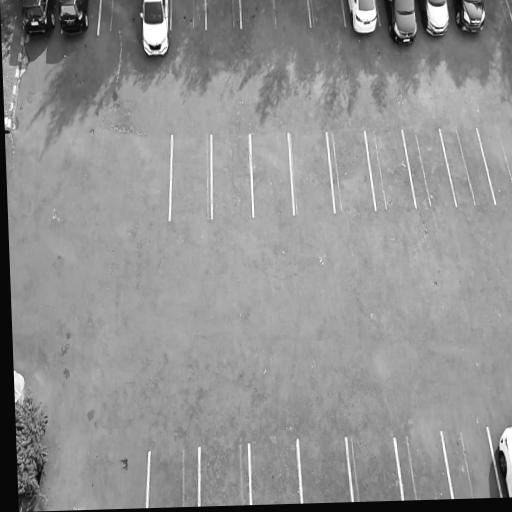Car: (138, 0, 171, 59), (488, 419, 512, 498), (416, 0, 457, 45), (382, 0, 420, 44), (345, 0, 382, 37), (451, 0, 490, 33), (58, 0, 92, 37), (23, 0, 57, 33)
Space Available: (401, 125, 457, 207), (442, 423, 501, 499), (441, 128, 496, 206), (366, 127, 417, 211), (394, 428, 453, 500), (327, 130, 376, 212), (290, 131, 335, 214), (346, 437, 403, 502), (251, 131, 294, 217), (298, 439, 353, 503), (213, 132, 253, 216), (172, 134, 211, 220), (249, 441, 302, 504), (200, 444, 250, 507), (148, 446, 199, 507), (477, 126, 512, 204), (169, 0, 206, 30), (205, 0, 241, 29), (308, 0, 346, 27), (274, 0, 311, 26), (241, 0, 275, 28), (486, 0, 512, 26)
